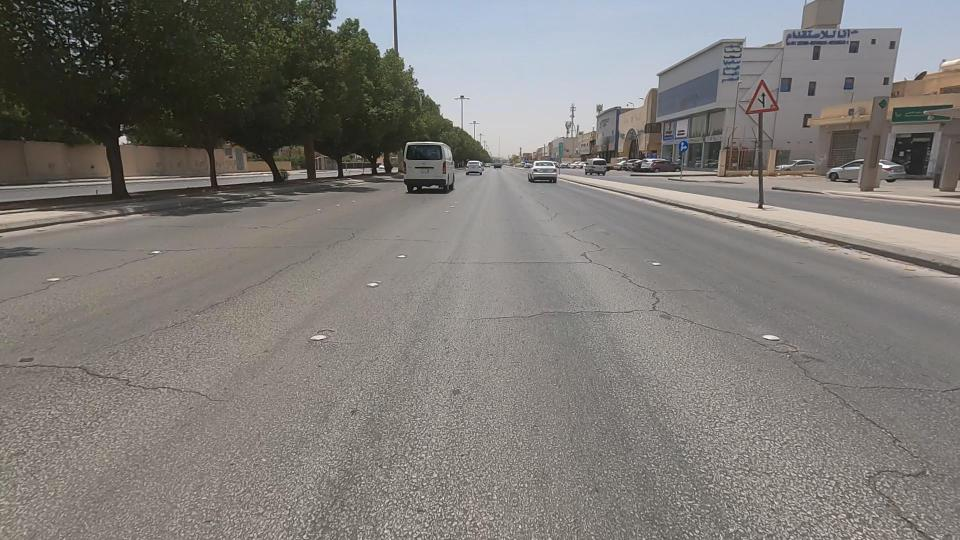FADED_SIGNAGE: (723, 63, 802, 143)
